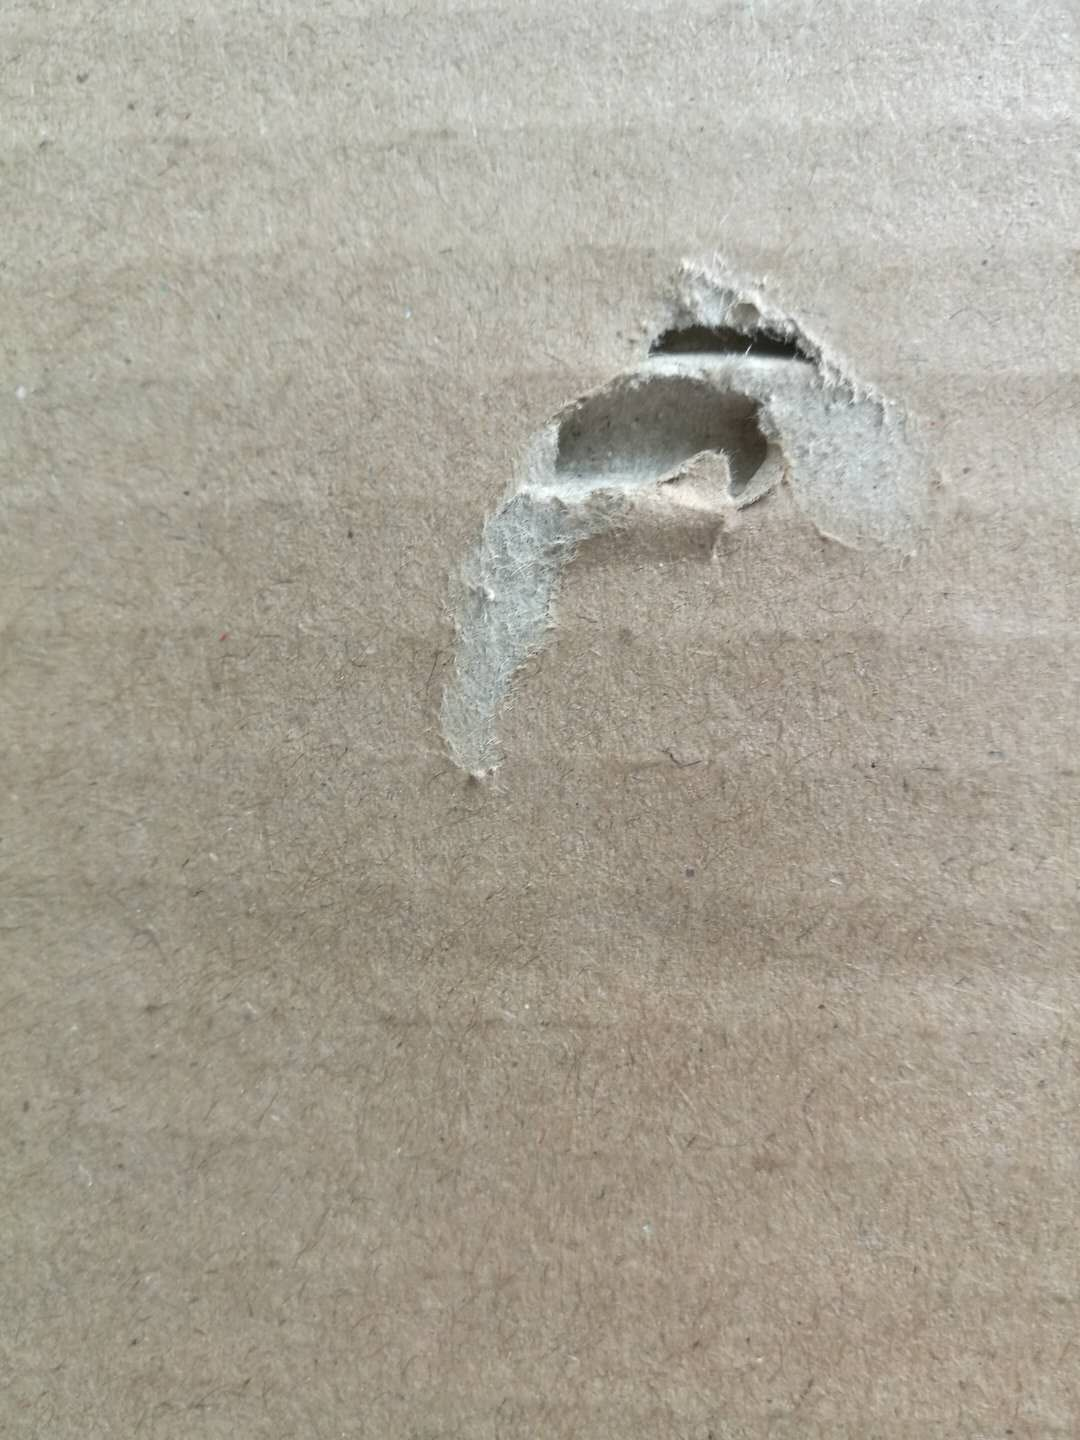defect: (376, 183, 999, 818)
